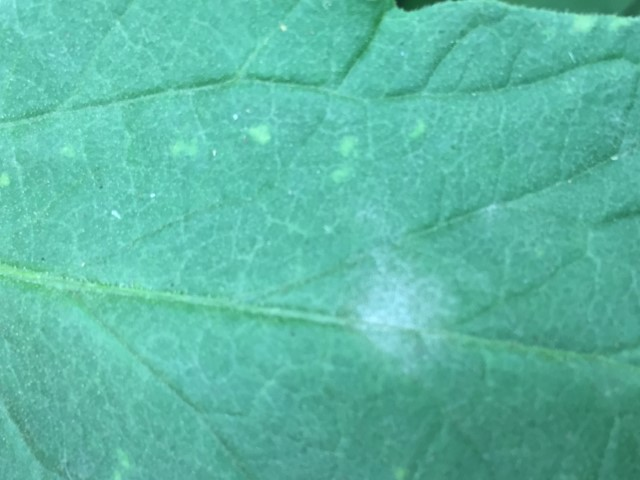oidio: (345, 241, 465, 378)
